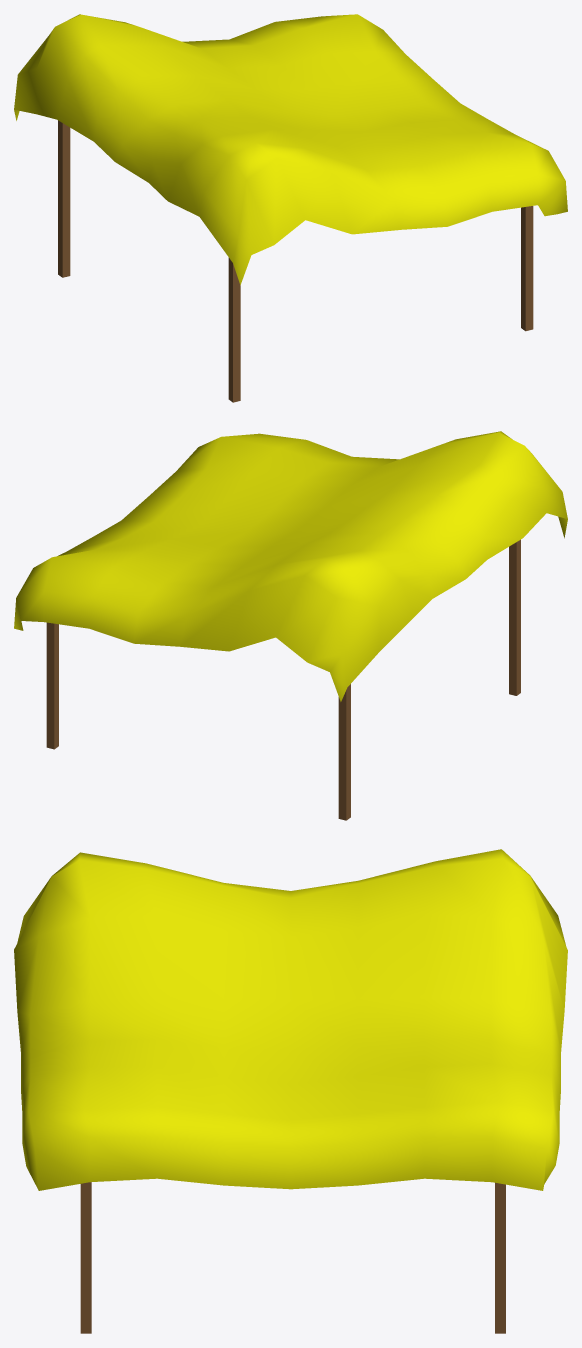
Rendered from Carpa.fbx.
3 renders of one model, top to bottom at view 1: azimuth 30°, elevation 25°; view 2: azimuth 150°, elevation 25°; view 3: azimuth 270°, elevation 25°, orthographic. The views are drawn at different scales.
Visible parts, largest first — view 1: Carpa; view 2: Carpa; view 3: Carpa.
Part boxes in pixels (bbox=[...]): Carpa: bbox=[14, 14, 567, 402]; Carpa: bbox=[14, 431, 567, 820]; Carpa: bbox=[14, 849, 567, 1333].
Size of the model in its own units: 19630 by 13537 by 21910.
